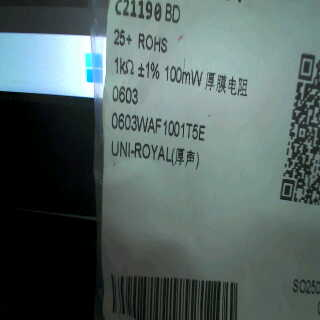1kR: (114, 55, 135, 77)
